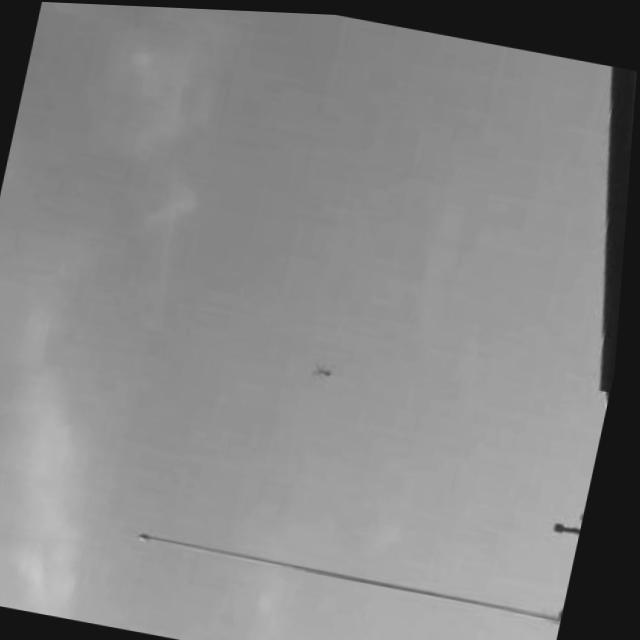helikopter: (314, 359, 339, 376)
